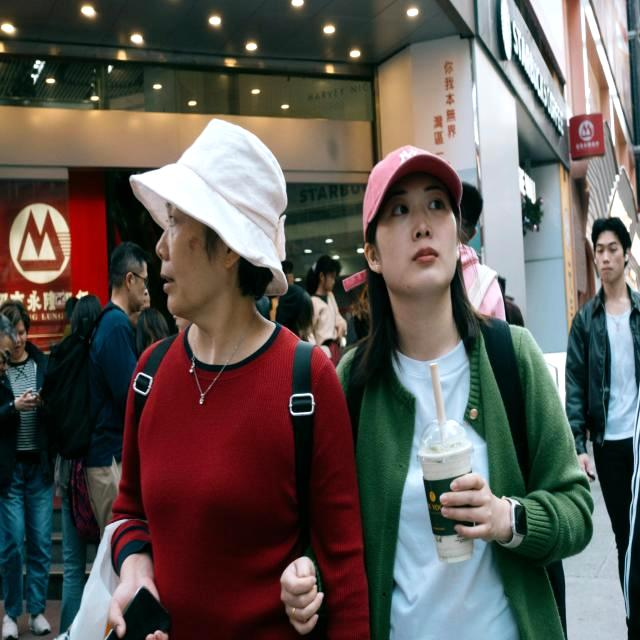no_hard_hat: (130, 119, 287, 294), (363, 145, 462, 241)
no_head_wear: (109, 242, 150, 280), (591, 217, 632, 253), (460, 182, 483, 243), (70, 295, 102, 336), (0, 299, 31, 333), (315, 255, 341, 275)
person: (338, 146, 593, 640), (103, 119, 314, 638), (566, 217, 640, 638), (41, 295, 102, 631), (0, 300, 53, 640), (91, 242, 149, 531), (459, 183, 505, 320), (311, 255, 346, 356)
